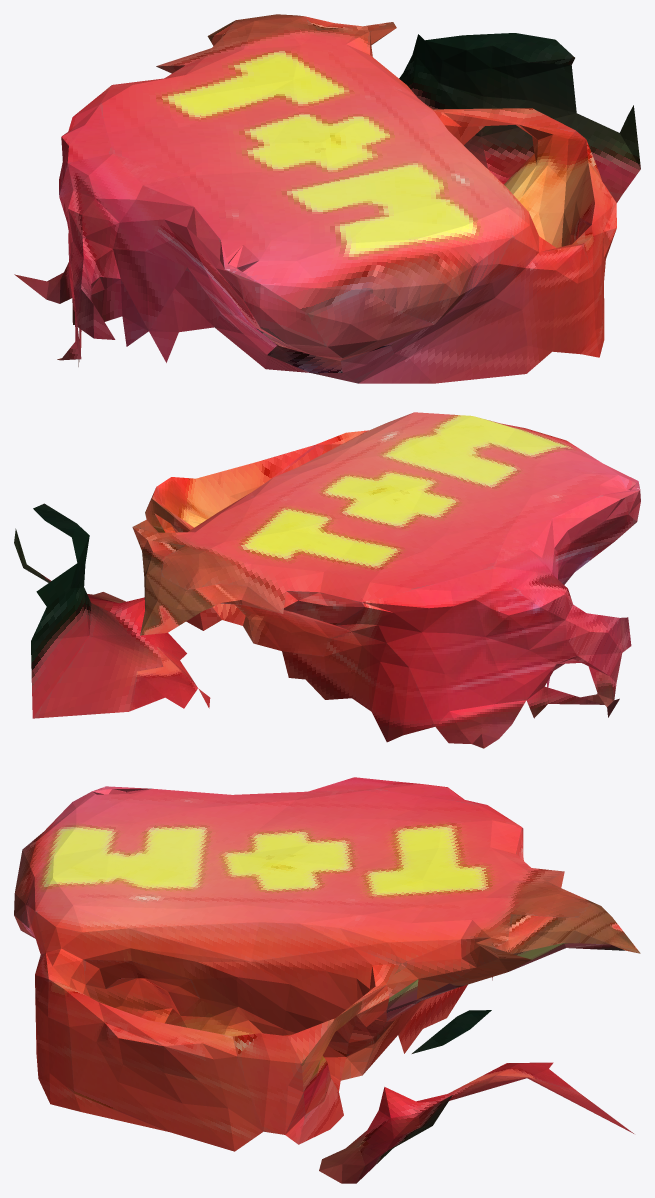
Rendered from reusable-restau-box.glb.
The picture shows the model from 3 angles, top to bottom: view 1: azimuth 30°, elevation 25°; view 2: azimuth 150°, elevation 25°; view 3: azimuth 270°, elevation 25°; orthographic projection. The views are drawn at different scales.
Visible parts, largest first — view 1: Mesh_0.009; view 2: Mesh_0.009; view 3: Mesh_0.009.
Boxes of the visible parts, left/top/right/bottom form: Mesh_0.009: left=14, top=14, right=640, bottom=383; Mesh_0.009: left=14, top=412, right=640, bottom=748; Mesh_0.009: left=14, top=777, right=640, bottom=1183.
Bounding box in the file's own units: 0.2552 × 0.0676 × 0.2204.
Materials: 1 (1 with a texture image).
